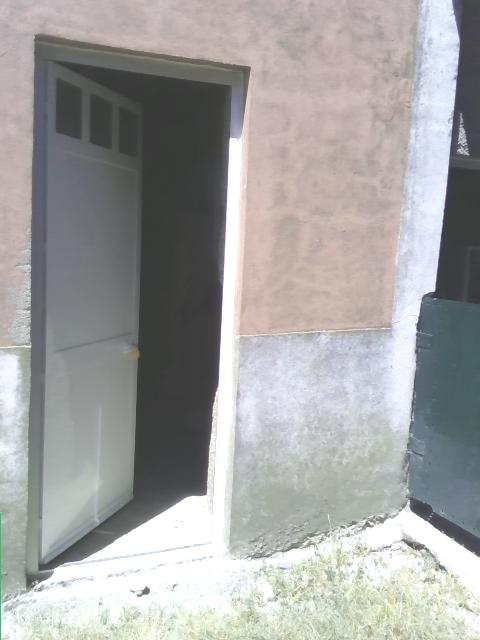semi_door: (24, 32, 251, 588)
